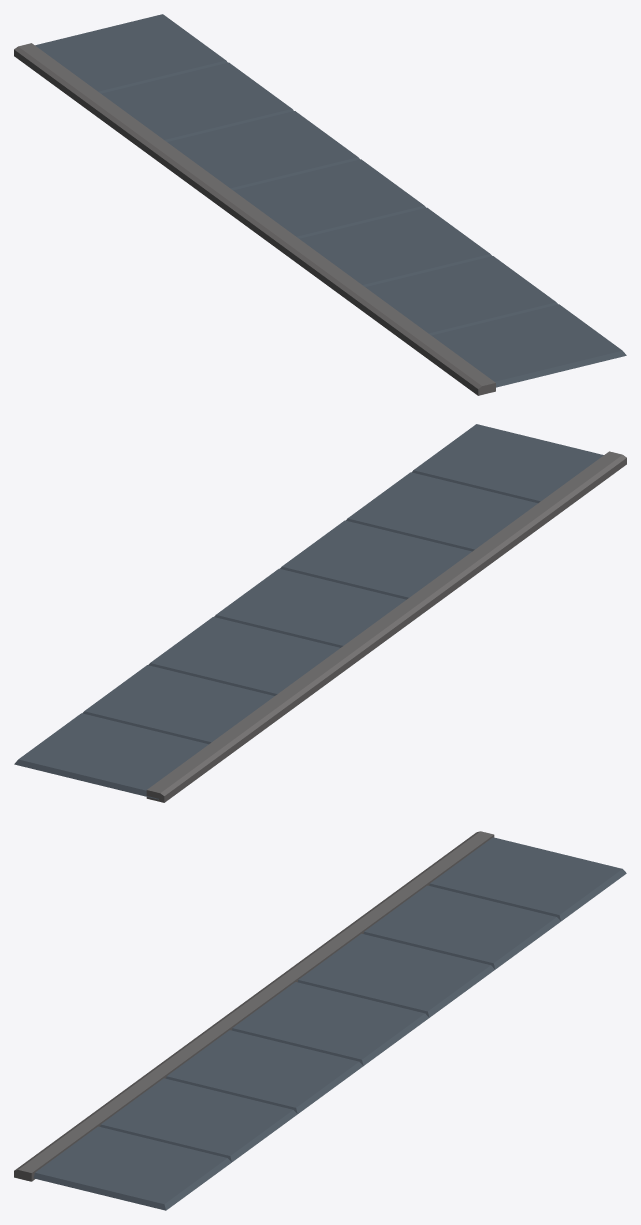
Rendered from SidewalkSegment.fbx.
3 renders of one model, top to bottom at view 1: azimuth 30°, elevation 25°; view 2: azimuth 150°, elevation 25°; view 3: azimuth 330°, elevation 25°, orthographic.
Visible parts, largest first — view 1: Curb; view 2: Curb; view 3: Curb.
Part boxes in pixels (box(x1,y1,x2,y2)): Curb: box(14, 14, 626, 395); Curb: box(14, 424, 626, 802); Curb: box(14, 831, 626, 1210).
Size of the model in its own units: 151 by 8.36 by 807.
